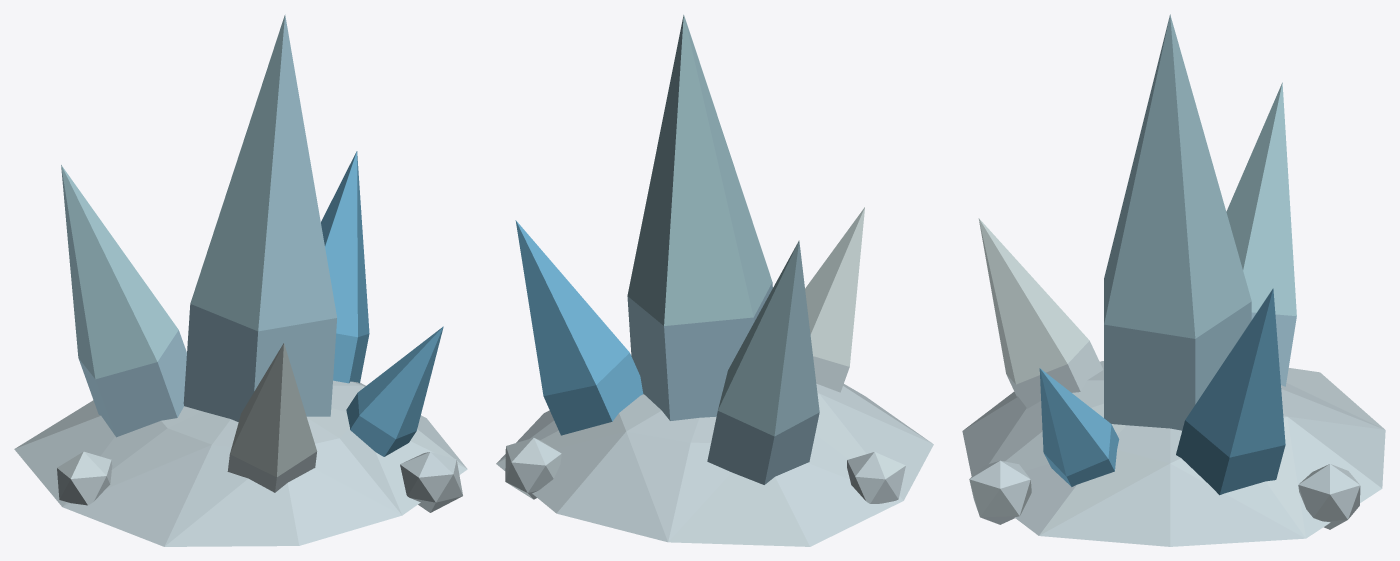
File: ice_spike.glb
3 renders of one model, left to right at view 1: azimuth 30°, elevation 25°; view 2: azimuth 150°, elevation 25°; view 3: azimuth 270°, elevation 25°, orthographic. The views are drawn at different scales.
Visible parts, largest first — view 1: ice_spike; view 2: ice_spike; view 3: ice_spike.
Part boxes in pixels (bbox=[...]): ice_spike: bbox=[14, 14, 467, 546]; ice_spike: bbox=[496, 14, 933, 546]; ice_spike: bbox=[962, 14, 1385, 546].
Bounding box in the file's own units: 2.27 × 2.71 × 2.18.
